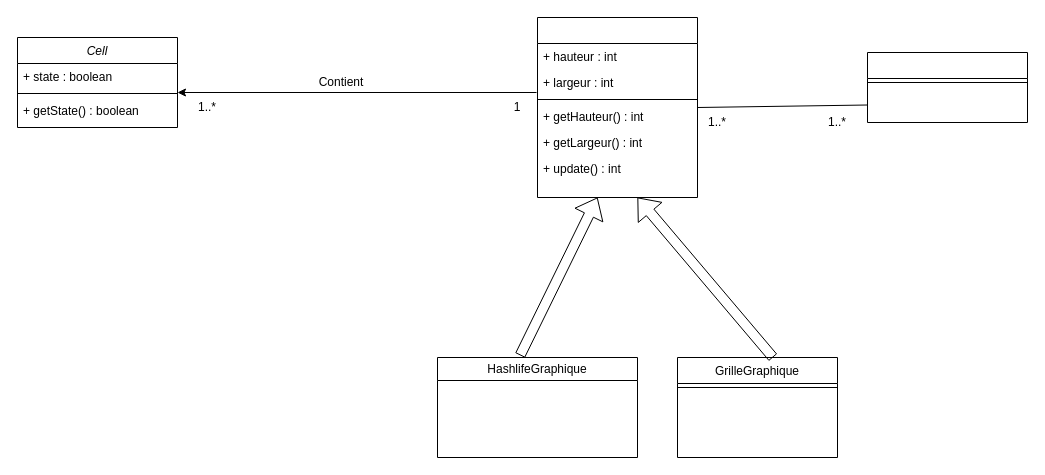
This 1045x475 diagram has some shape labels left out. The shapes that lost their labels are listed below. From the top down, each one's box as (x1, y1, x2, y2) in pixels, then its label:
(536, 16, 698, 198): Grille
(866, 52, 1028, 122): Node
